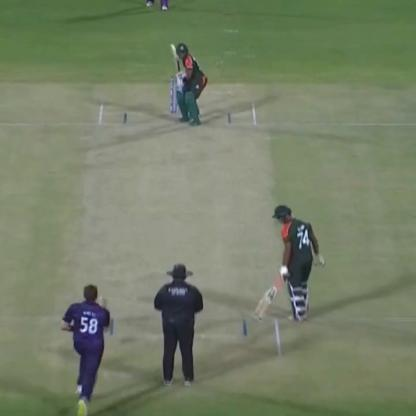bat: (253, 268, 289, 326), (166, 38, 190, 91)
pitch: (78, 94, 298, 377)
